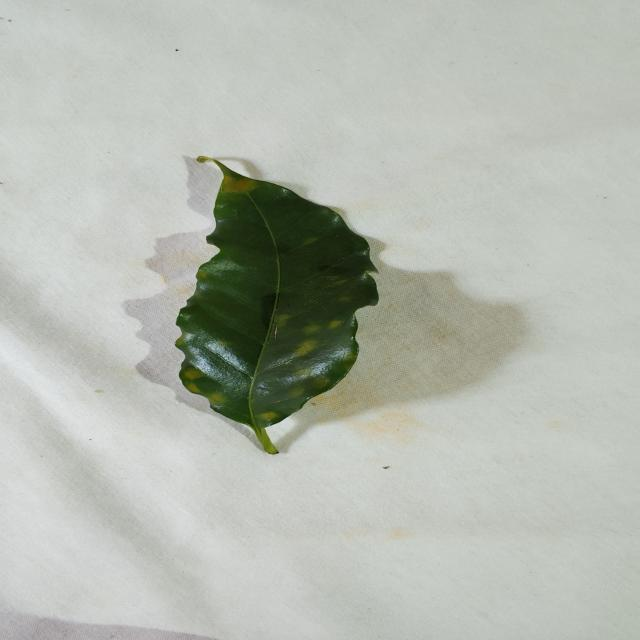Enfermedad-Roya: (174, 159, 380, 456)
